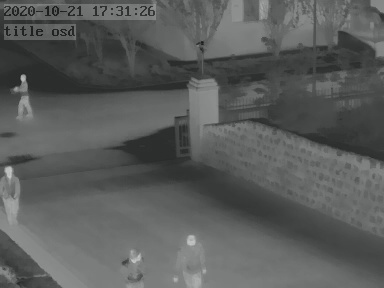person: (176, 230, 205, 288), (1, 161, 22, 227), (121, 246, 148, 288), (14, 70, 33, 117)
